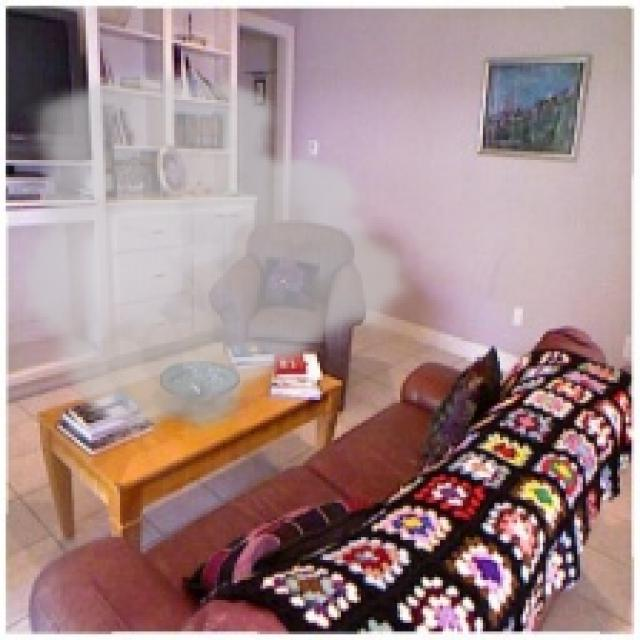smoke: (17, 63, 420, 446)
